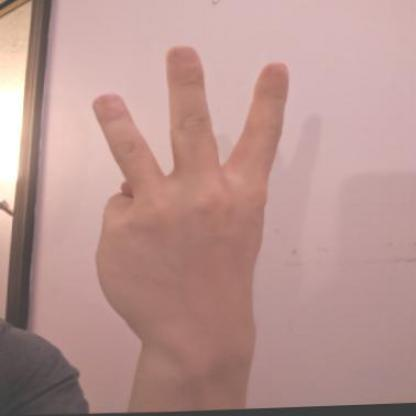W: (75, 34, 299, 354)
